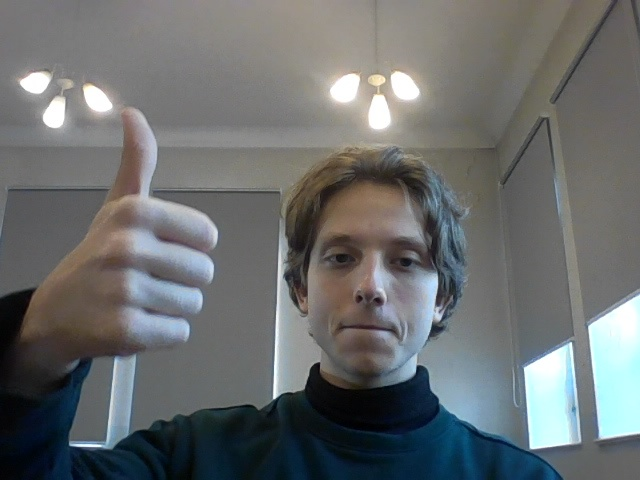thank you: (58, 101, 229, 362)
